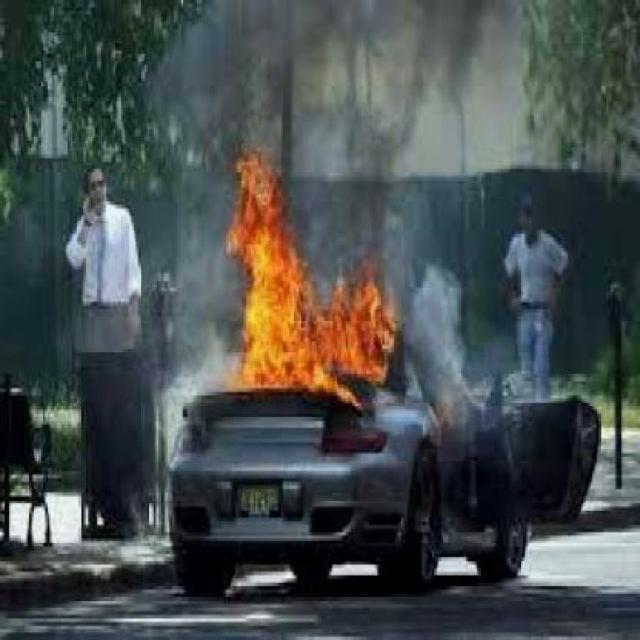Fire: (212, 151, 396, 400)
Smoke: (394, 249, 480, 443)
